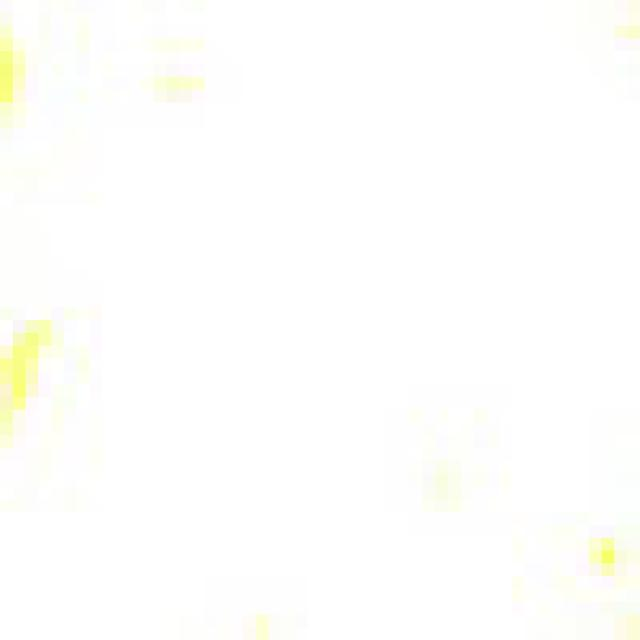fire: (6, 3, 631, 640)
